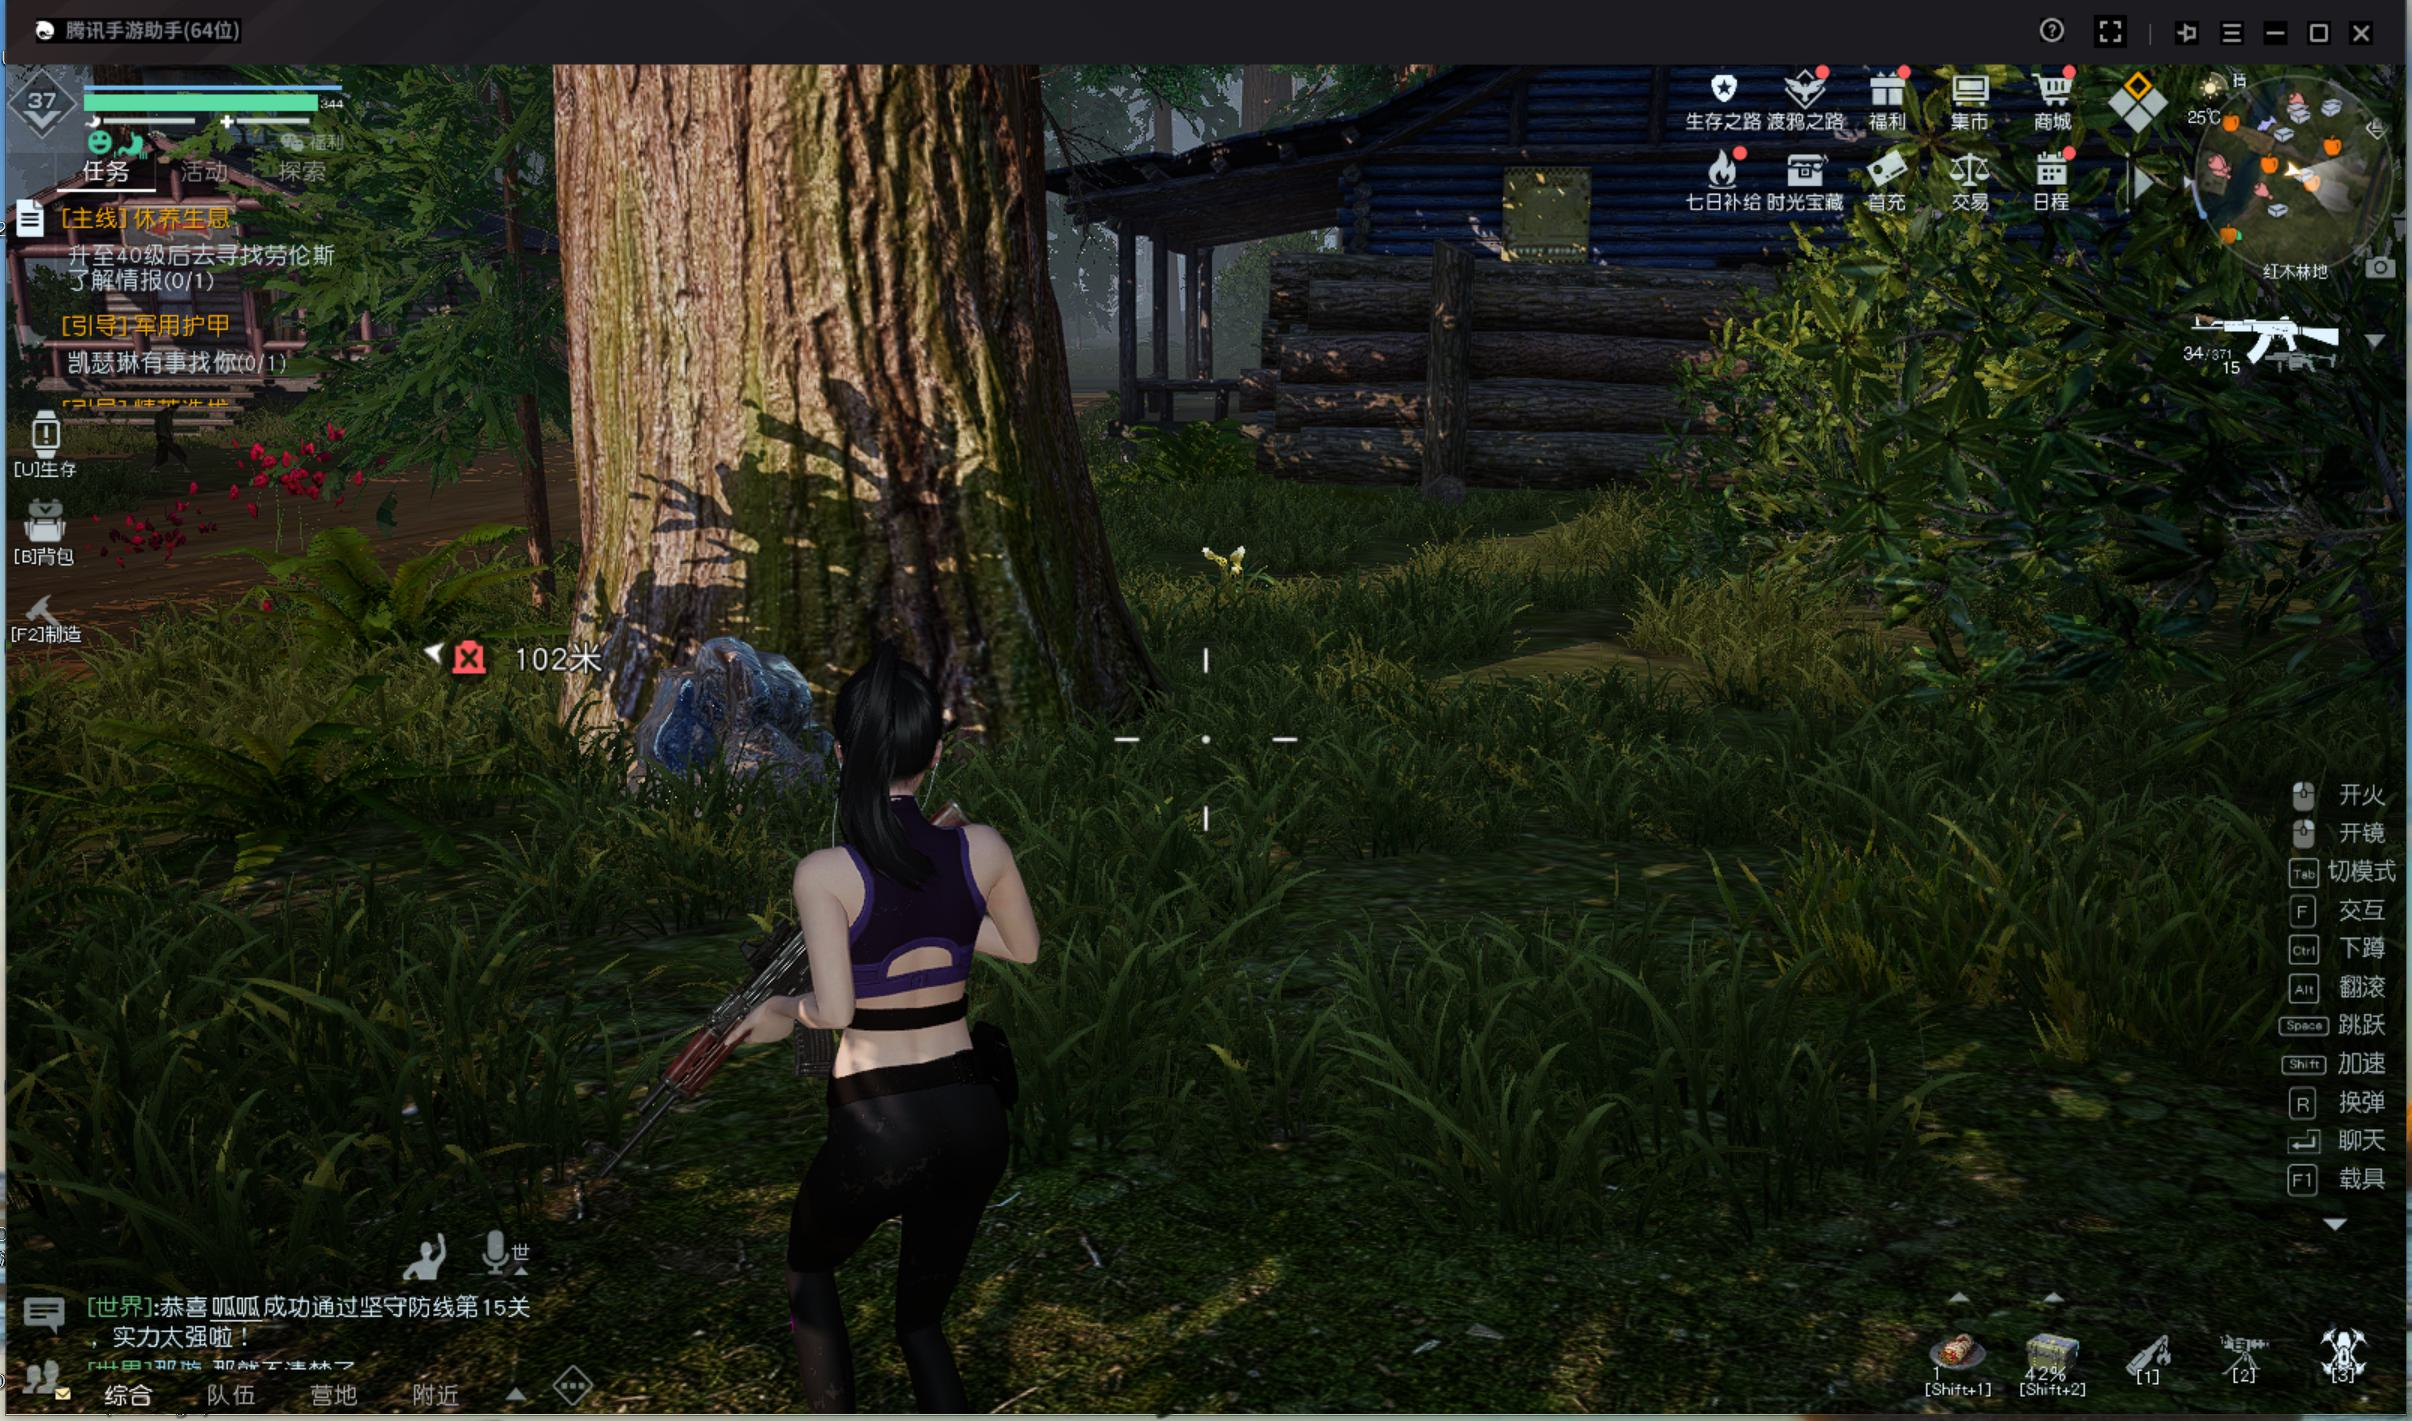stone: (578, 621, 824, 824)
